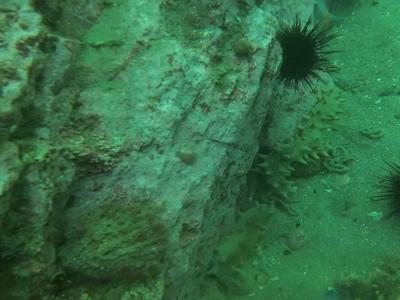holothurian: (248, 125, 333, 219), (215, 203, 280, 293), (302, 86, 341, 144), (334, 265, 390, 293)
urchin: (273, 13, 350, 99), (365, 153, 398, 225)
